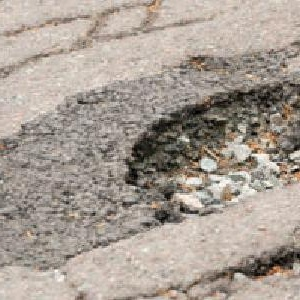pothole: (120, 80, 299, 226), (234, 244, 300, 281)
